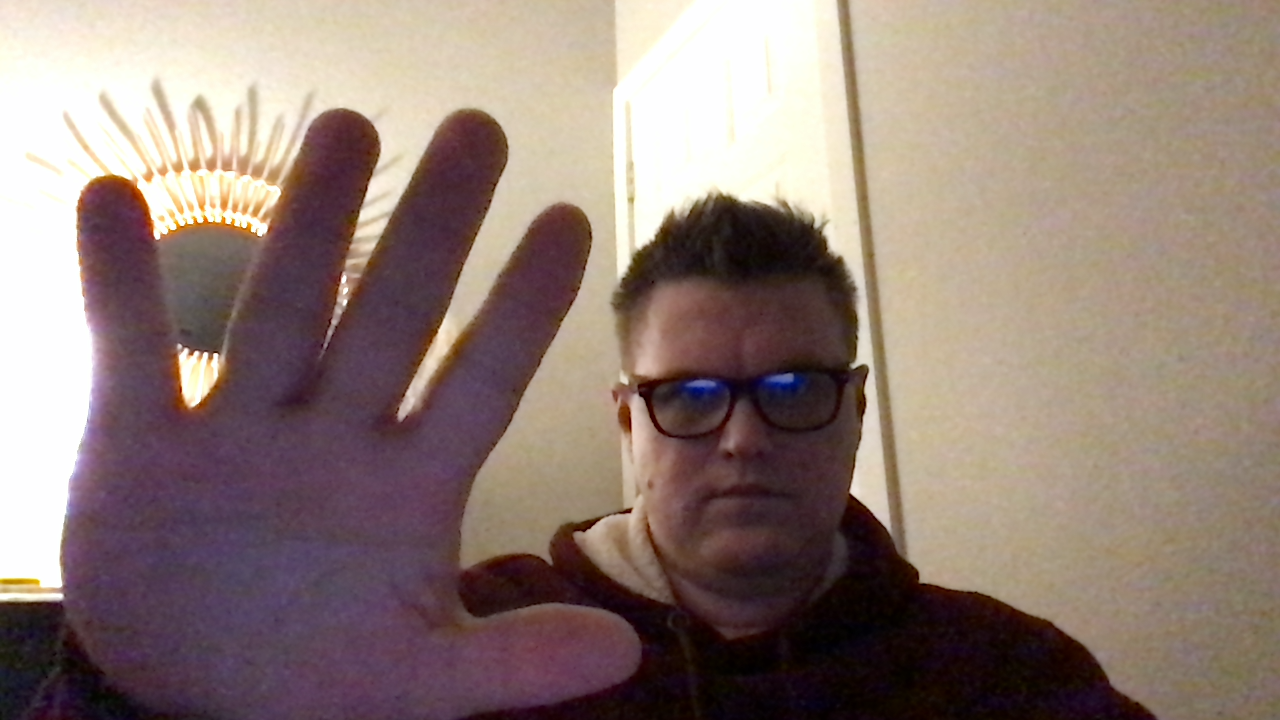hello: (62, 98, 650, 720)
